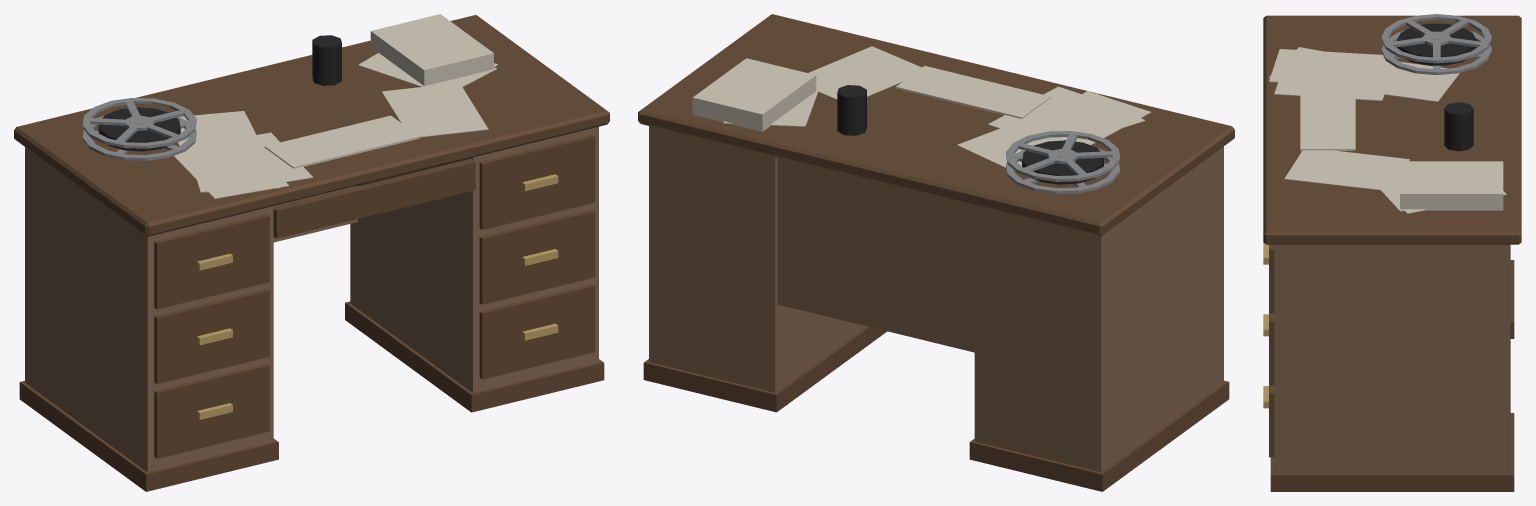
Rendered from desk.glb.
The picture shows the model from 3 angles, left to right: view 1: azimuth 30°, elevation 25°; view 2: azimuth 150°, elevation 25°; view 3: azimuth 270°, elevation 25°; orthographic projection. The views are drawn at different scales.
Parts seen in each view (by area): view 1: dark_wood__desk__solid, wood__desk__solid, paper__desk__ns, steel__desk__ns, rubber__desk__ns, brass__desk__ns; view 2: wood__desk__solid, dark_wood__desk__solid, paper__desk__ns, steel__desk__ns, rubber__desk__ns; view 3: wood__desk__solid, dark_wood__desk__solid, paper__desk__ns, steel__desk__ns, rubber__desk__ns, brass__desk__ns.
Boxes of the visible parts, box(x1,y1,x2,y2) form: dark_wood__desk__solid: box(14, 15, 609, 491); wood__desk__solid: box(25, 126, 598, 472); paper__desk__ns: box(174, 14, 498, 198); steel__desk__ns: box(82, 98, 196, 160); rubber__desk__ns: box(98, 35, 341, 151); brass__desk__ns: box(197, 174, 558, 419); wood__desk__solid: box(649, 126, 1223, 472); dark_wood__desk__solid: box(638, 14, 1234, 491); paper__desk__ns: box(692, 46, 1151, 168); steel__desk__ns: box(1006, 131, 1120, 193); rubber__desk__ns: box(837, 85, 1103, 184); wood__desk__solid: box(1274, 244, 1510, 473); dark_wood__desk__solid: box(1263, 15, 1521, 491); paper__desk__ns: box(1269, 47, 1506, 213); steel__desk__ns: box(1381, 14, 1491, 74); rubber__desk__ns: box(1397, 23, 1476, 151); brass__desk__ns: box(1263, 242, 1268, 408).
Size of the model in its own units: 1.4 by 0.895 by 0.7.
